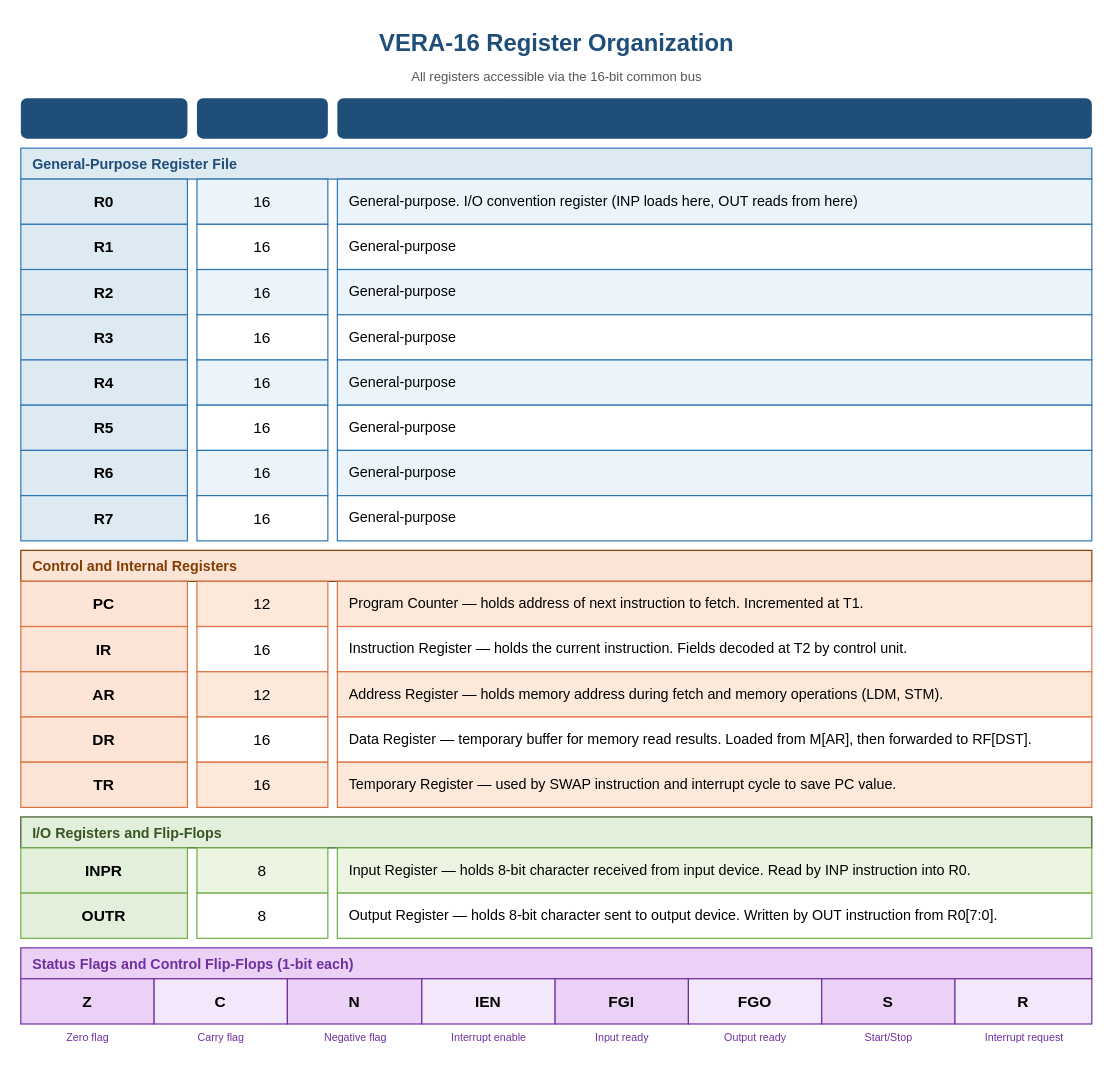
Image size: 1113x1067. Some labels were removed from this diagram. Here are the shapes that lost their labels. From the top down, the centre of each, then its label:
At pixel 103 118: "Register".
At pixel 261 118: "Size (bits)".
At pixel 714 118: "Purpose".
